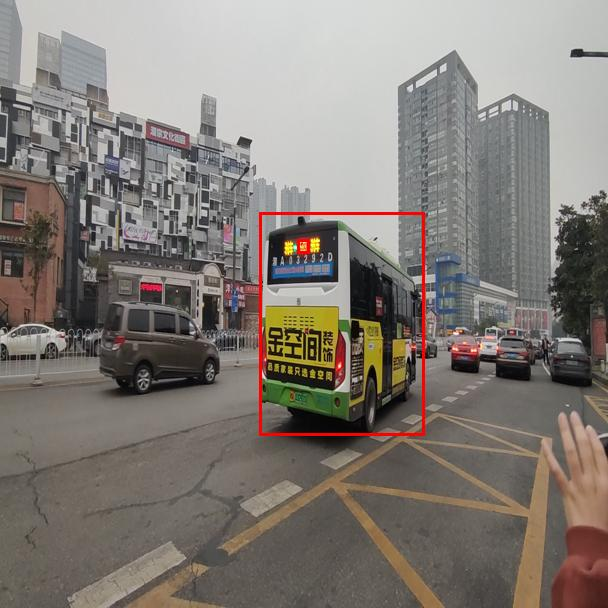bus: (259, 212, 424, 435)
screen: (297, 239, 309, 253)
